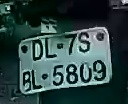0: (79, 61, 94, 83)
5: (53, 63, 65, 89)
7: (65, 33, 78, 58)
8: (65, 62, 79, 85)
9: (91, 58, 108, 83)
B: (19, 68, 32, 93)
D: (30, 39, 45, 63)
L: (42, 39, 57, 61), (29, 71, 44, 90)
S: (76, 31, 95, 56)
